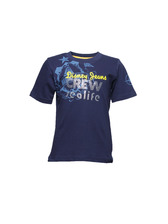clothoes: (27, 49, 139, 168)
